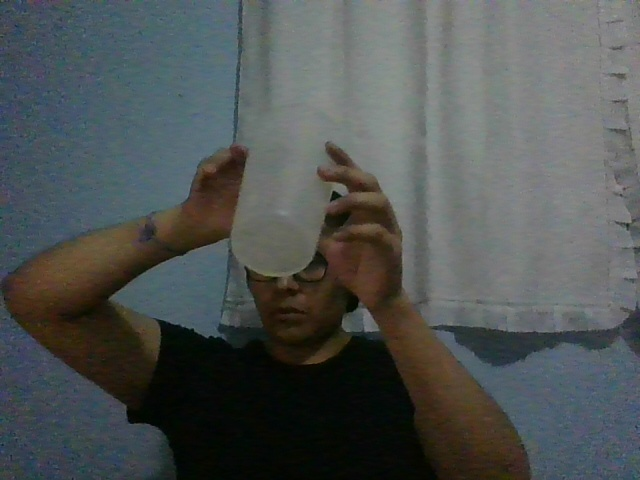vaso: (230, 102, 339, 278)
